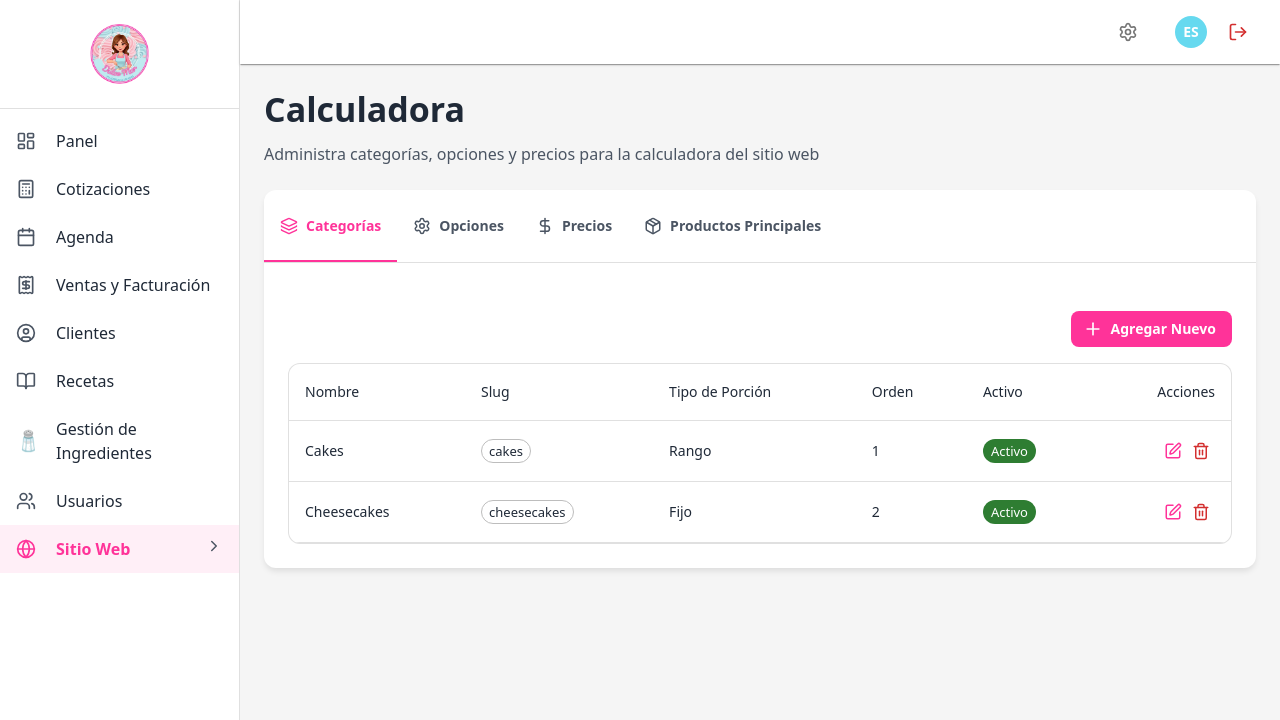
Test: Calculator Products Management › Options Tab › should open edit dialog when clicking edit button
What coordinates should you click on to do the following:
click the tab "Opciones"
I would click on:
 (459, 226)
Its box is [397, 190, 520, 262].
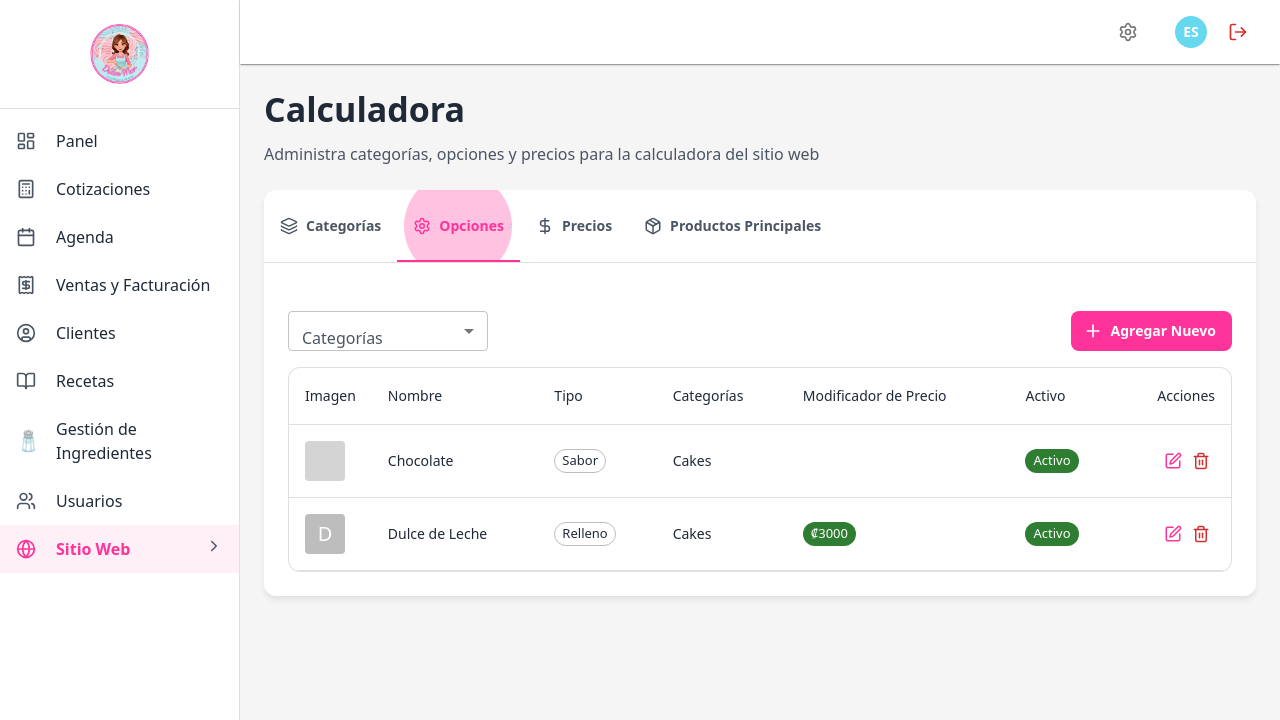
What coordinates should you click on to do the following:
click the button named "Editar" in the row of "Chocolate"
I would click on:
 (1173, 461)
Its box is [1159, 447, 1187, 475].
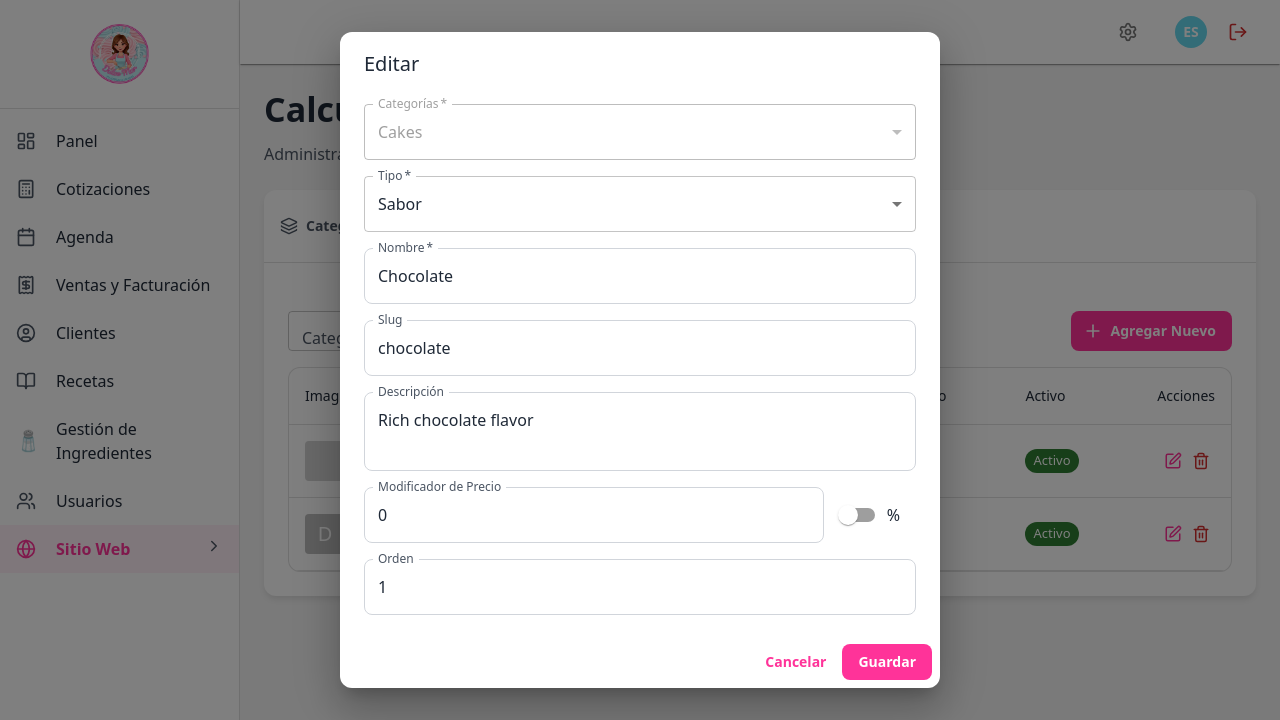
Expected: the dialog is shown, [340, 32, 940, 688]
Expected: the heading "Editar" is shown, [364, 50, 419, 77]
